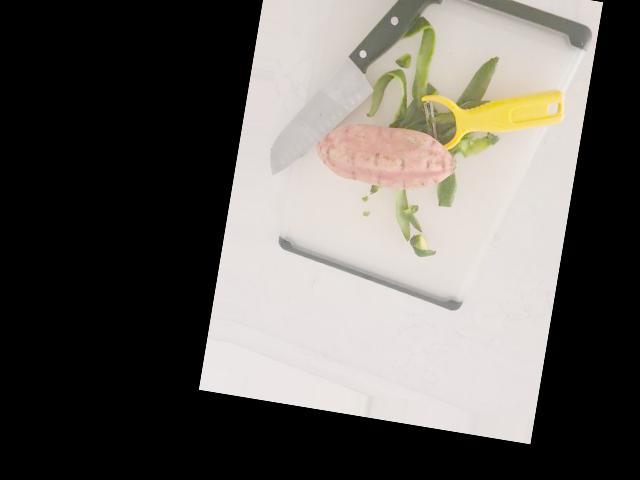sweet_potato: (313, 114, 464, 198)
